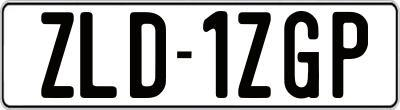1: (200, 11, 229, 99)
D: (128, 9, 164, 100)
G: (281, 9, 317, 98)
L: (78, 12, 116, 102)
P: (331, 9, 368, 95)
Z: (38, 9, 72, 101), (237, 11, 272, 99)
